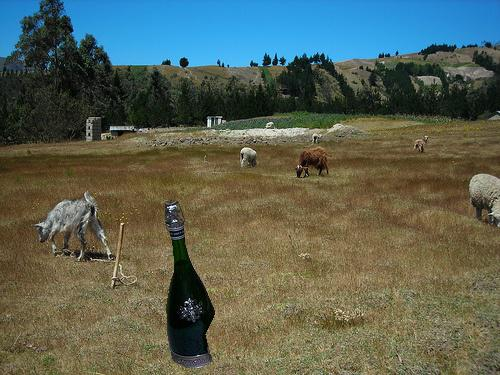tampered: (166, 201, 215, 368)
